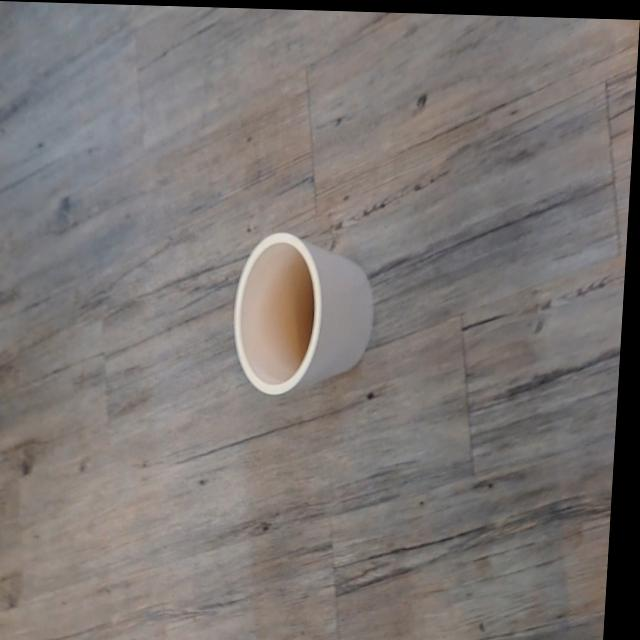CORAL: (219, 214, 405, 420)
